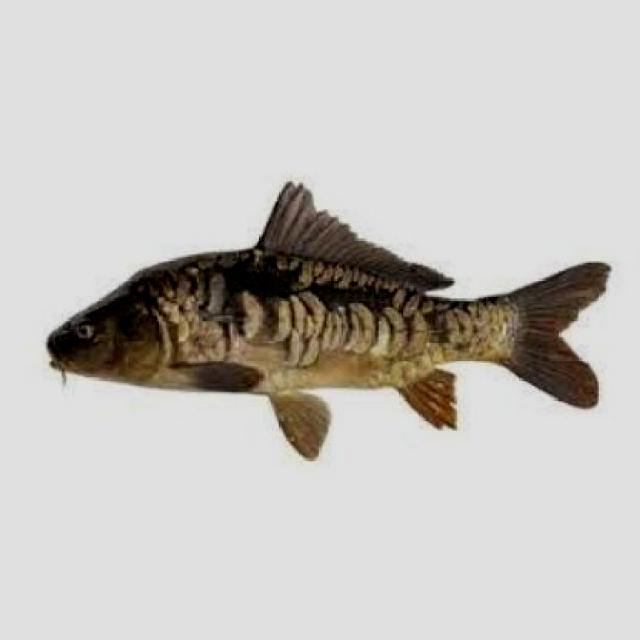ikan-mas: (41, 206, 614, 440)
